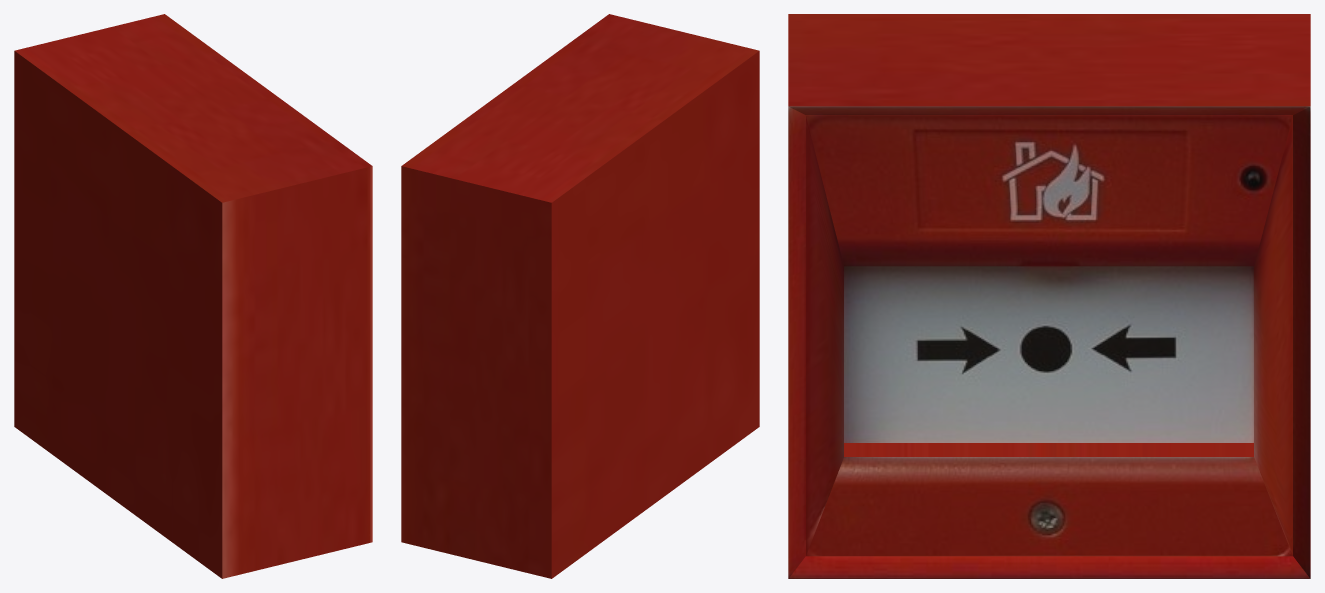
The model's file is MCP001.fbx.
The picture shows the model from 3 angles, left to right: view 1: azimuth 30°, elevation 25°; view 2: azimuth 150°, elevation 25°; view 3: azimuth 270°, elevation 25°; orthographic projection. The views are drawn at different scales.
Parts seen in each view (by area): view 1: Cube; view 2: Cube; view 3: Cube.
Part boxes in pixels (left/top/right/bottom): Cube: left=14, top=14, right=372, bottom=578; Cube: left=401, top=14, right=759, bottom=578; Cube: left=788, top=14, right=1310, bottom=578.
Size of the model in its own units: 113 by 269 by 269.
1 material, 1 textured.
